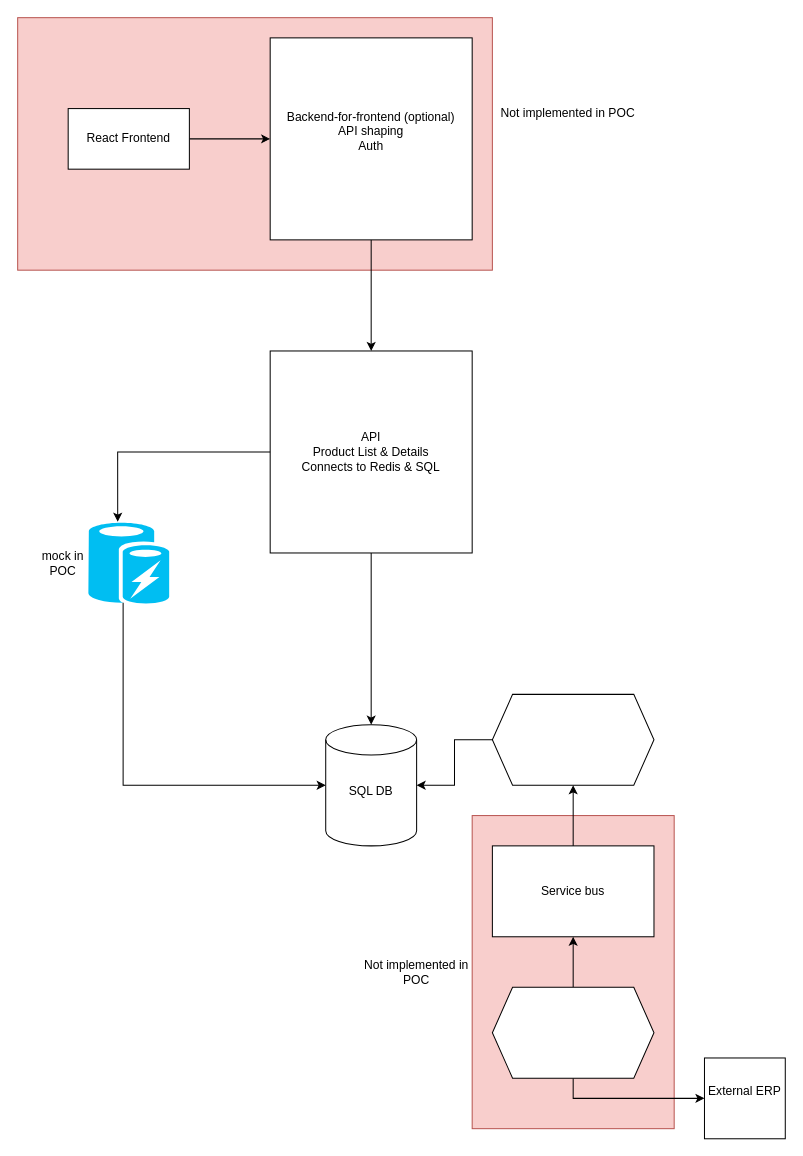
This 803x1156 diagram has some shape labels left out. The shapes that lost their labels are listed below. From the top down, each one's box as (x1, y1, x2, y2) in pixels, then its label:
(88, 522, 169, 603): Azure Redis Cache
(491, 693, 654, 785): Azure function ERP Import timetrigger Upserts to DB
(491, 986, 654, 1078): Azure function importer
